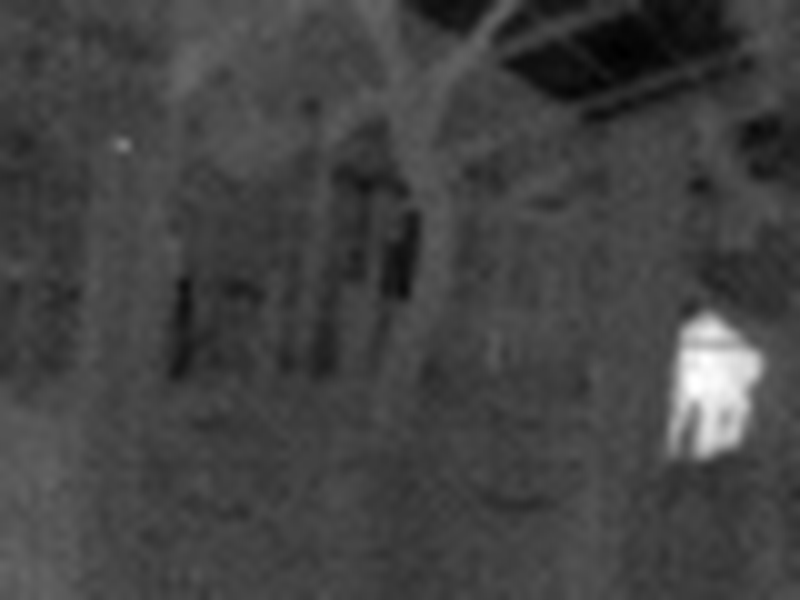elephant: (659, 294, 781, 474)
